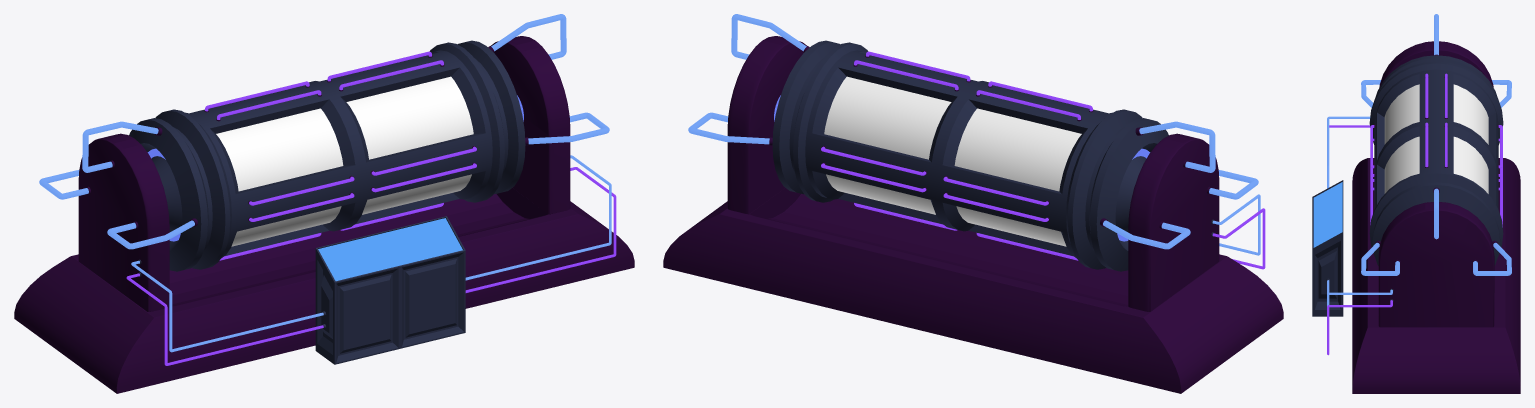
File: reactor.glb
3 renders of one model, left to right at view 1: azimuth 30°, elevation 25°; view 2: azimuth 150°, elevation 25°; view 3: azimuth 270°, elevation 25°, orthographic. The views are drawn at different scales.
Visible parts, largest first — view 1: stand, reactor_body, controller, reactor_glass, reactor_pipes, outter_pipes, outter_cables; view 2: stand, reactor_body, reactor_glass, reactor_pipes, outter_pipes, outter_cables; view 3: stand, reactor_body, reactor_glass, controller, outter_pipes, reactor_pipes, outter_cables.
Part boxes in pixels (box(x1,y1,x2,y2)): stand: box(14, 36, 634, 393); reactor_body: box(129, 40, 525, 271); controller: box(315, 216, 465, 364); reactor_glass: box(216, 76, 473, 246); reactor_pipes: box(204, 51, 476, 260); outter_pipes: box(39, 14, 609, 249); outter_cables: box(126, 155, 616, 365); stand: box(663, 36, 1283, 393); reactor_body: box(772, 40, 1168, 271); reactor_glass: box(824, 76, 1081, 246); reactor_pipes: box(821, 51, 1093, 260); outter_pipes: box(688, 14, 1258, 249); outter_cables: box(1211, 194, 1265, 269); stand: box(1352, 41, 1520, 393); reactor_body: box(1369, 55, 1503, 265); reactor_glass: box(1384, 84, 1488, 193); controller: box(1312, 180, 1343, 316); outter_pipes: box(1361, 14, 1511, 275); reactor_pipes: box(1370, 73, 1502, 227); outter_cables: box(1326, 116, 1393, 355).
Size of the model in its own units: 7.89 by 3.23 by 3.35.
